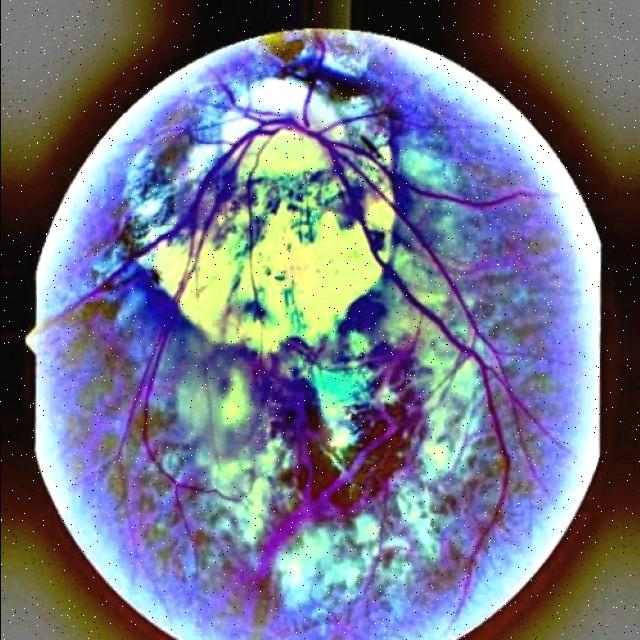Nerves: (48, 31, 546, 623), (248, 411, 414, 582)
Optic Disk: (96, 77, 391, 356)
